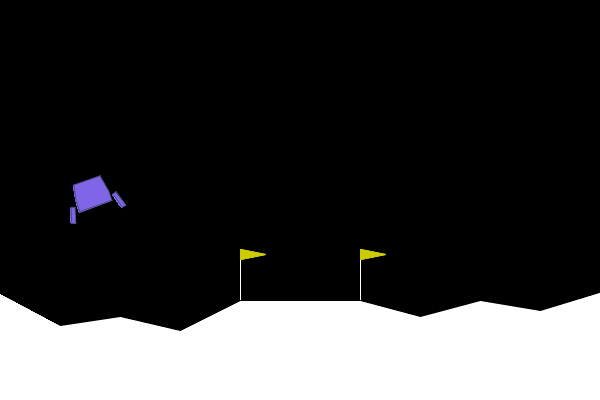lander: (57, 169, 127, 227)
